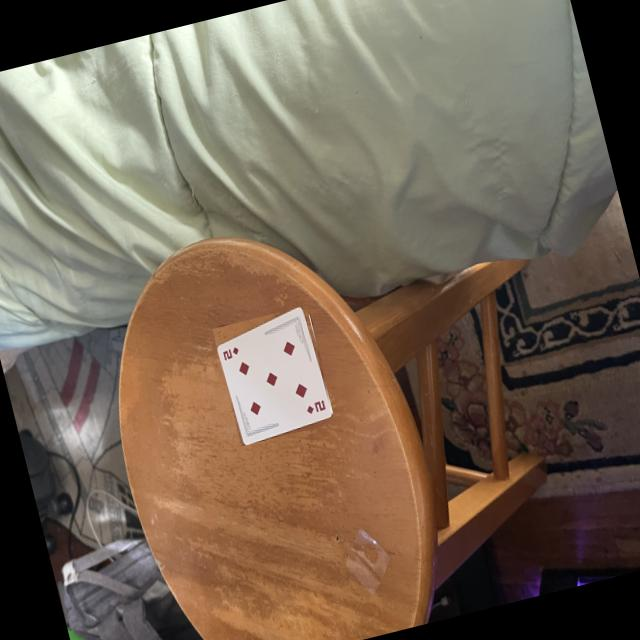5 of diamonds: (217, 306, 332, 442)
